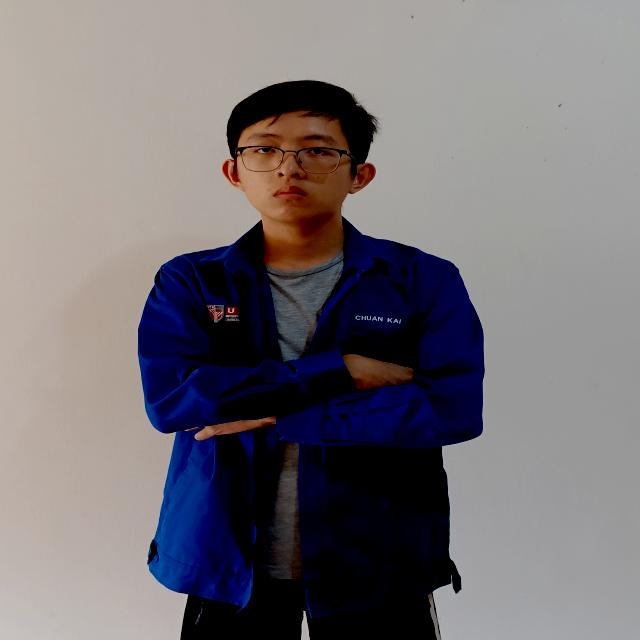person_with_labcoat: (138, 81, 484, 640)
